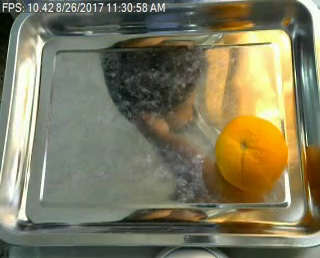Orange: (214, 114, 287, 192)
